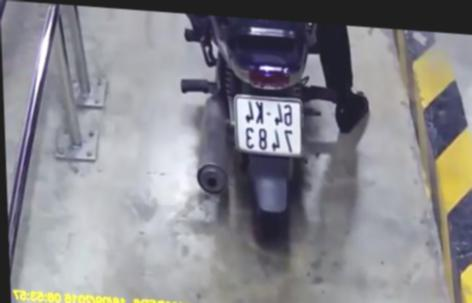License_Plate: (227, 86, 313, 165)
